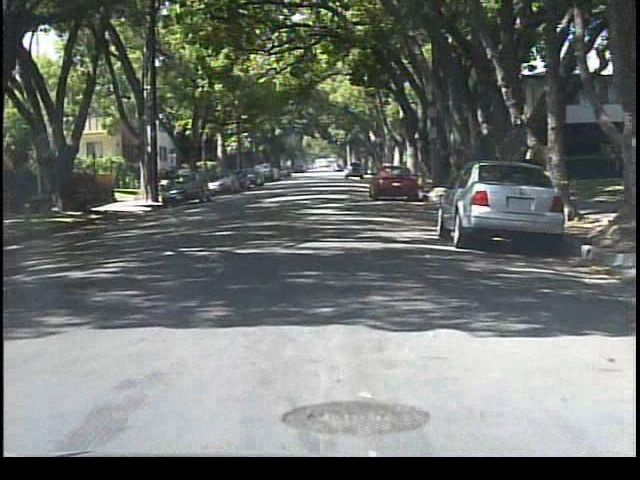person: (174, 165, 193, 198)
